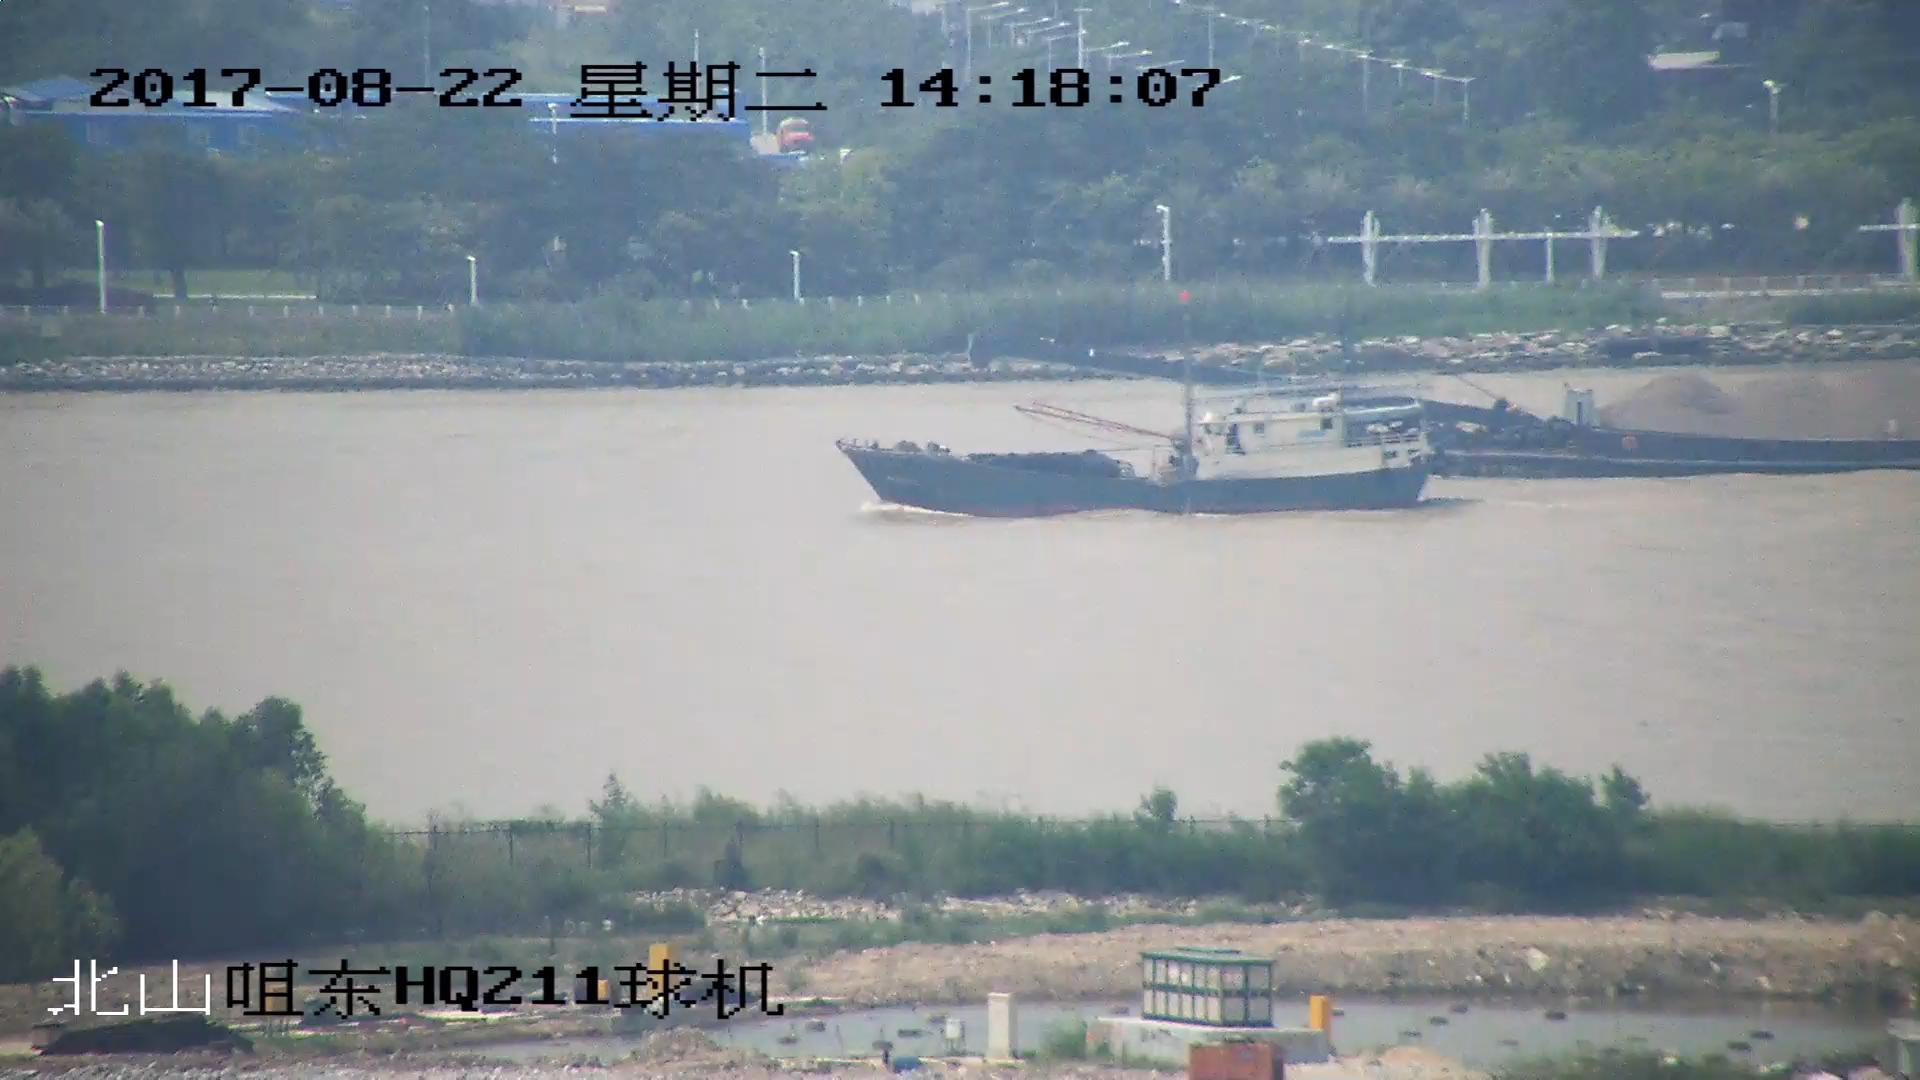Ship: (837, 291, 1452, 517), (971, 332, 1920, 475)
